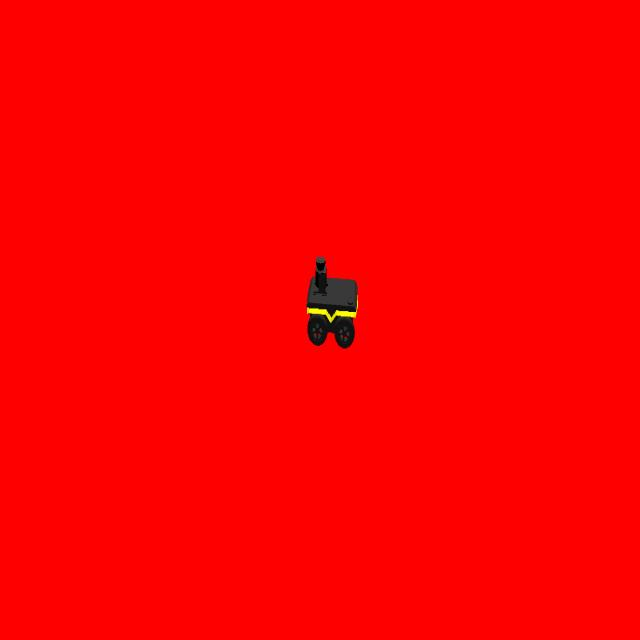jackal: (304, 255, 358, 352)
